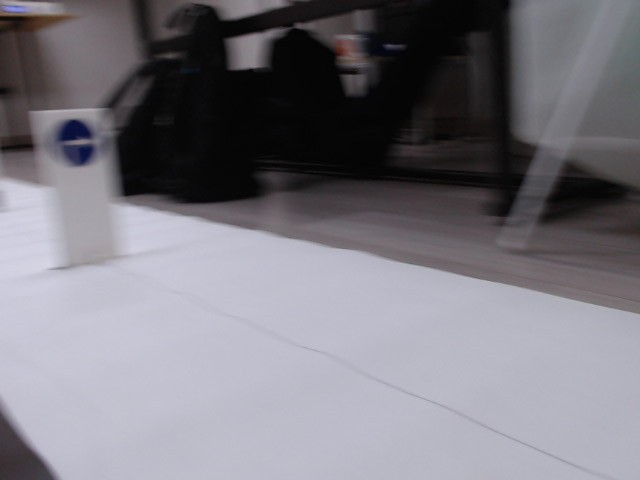Right: (49, 119, 98, 167)
